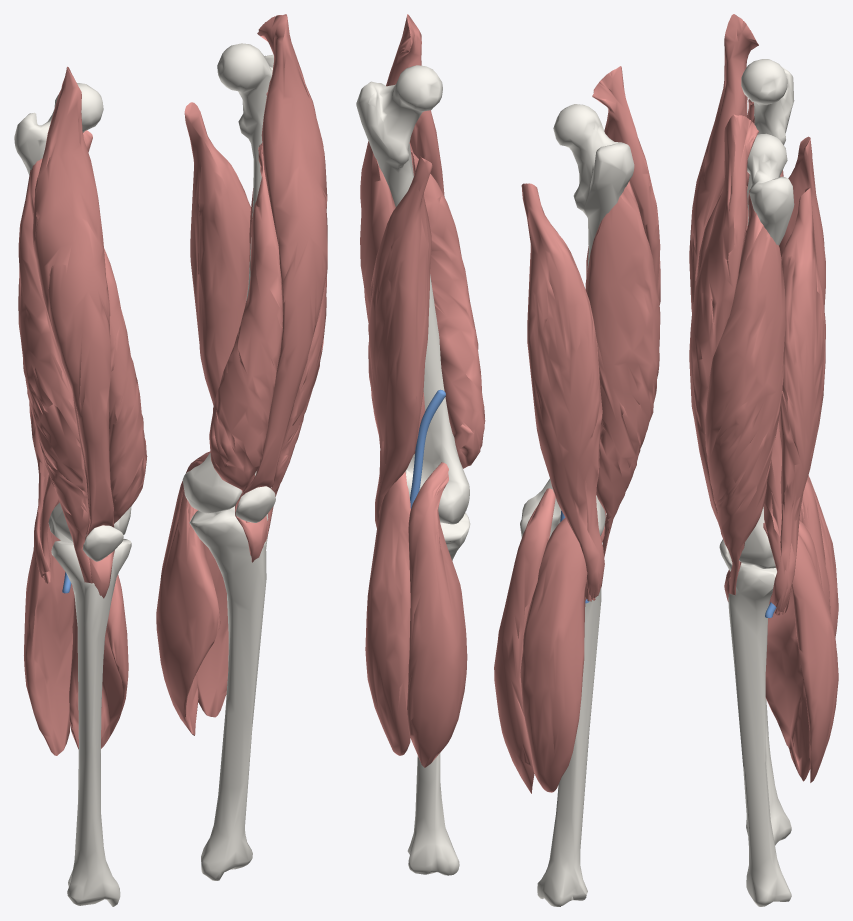
The model's file is coxa-joelho.glb.
3 renders of one model, left to right at view 1: azimuth 30°, elevation 25°; view 2: azimuth 150°, elevation 25°; view 3: azimuth 270°, elevation 25°, orthographic. The views are drawn at different scales.
Visible parts, largest first — view 1: quadriceps, gastrocnemio, tibia, isquiotibiais, femur, patela; view 2: gastrocnemio, quadriceps, isquiotibiais, femur, tibia, veia-poplitea; view 3: quadriceps, isquiotibiais, gastrocnemio, tibia, femur.
Part boxes in pixels (x1,y1,x2,y2): quadriceps: (18, 14, 327, 598); gastrocnemio: (24, 451, 228, 755); tibia: (51, 506, 268, 906); isquiotibiais: (27, 102, 250, 583); femur: (14, 43, 273, 542); patela: (83, 486, 275, 561); gastrocnemio: (365, 462, 587, 793); quadriceps: (360, 14, 660, 556); isquiotibiais: (368, 157, 604, 601); femur: (356, 65, 634, 538); tibia: (407, 512, 601, 906); veia-poplitea: (410, 389, 589, 603); quadriceps: (689, 14, 785, 601); isquiotibiais: (763, 136, 825, 615); gastrocnemio: (763, 475, 838, 782); tibia: (728, 562, 791, 906); femur: (739, 59, 794, 568).
Size of the model in its own units: 0.3193 by 0.8772 by 0.1467.
